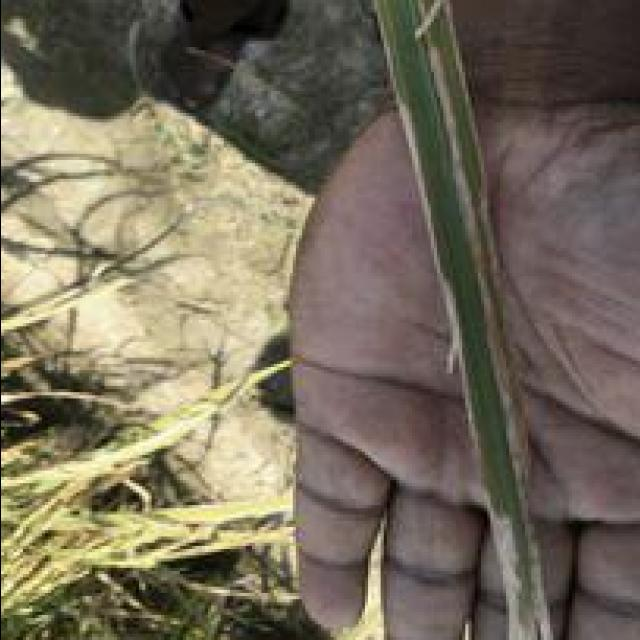Bacterial_Leaf_Blight: (354, 0, 564, 637)
